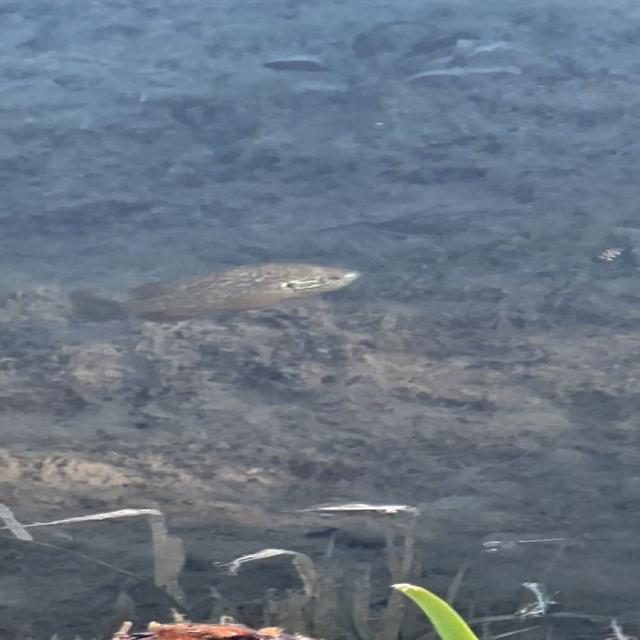Gunes Levregi: (53, 257, 387, 350)
